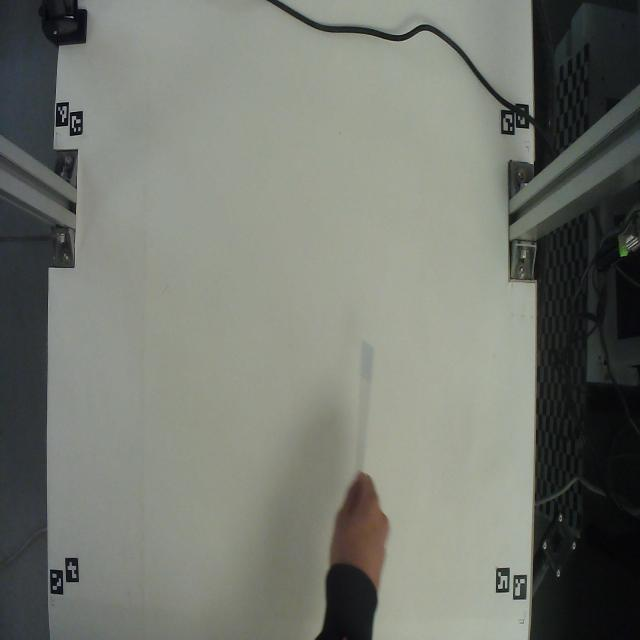NoPres: (343, 302, 389, 504)
